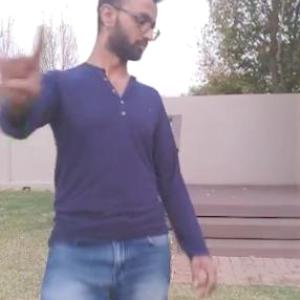takeoff-hand: (0, 17, 54, 106)
